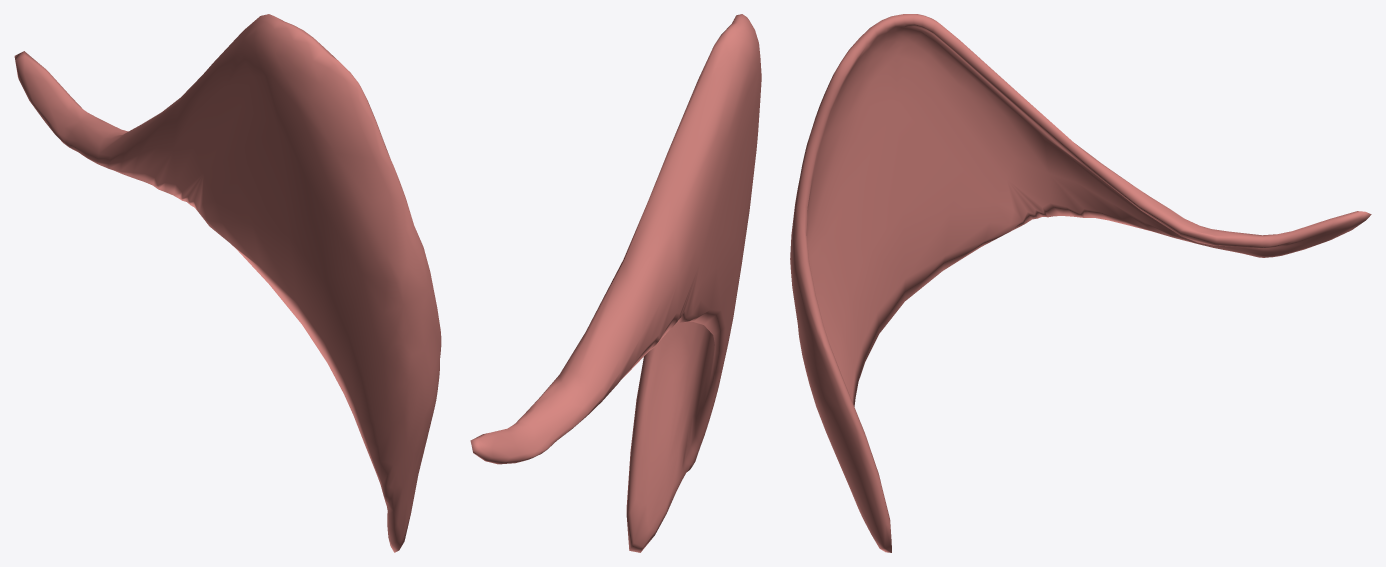
The picture shows the model from 3 angles, left to right: view 1: azimuth 30°, elevation 25°; view 2: azimuth 150°, elevation 25°; view 3: azimuth 270°, elevation 25°; orthographic projection. The views are drawn at different scales.
Parts seen in each view (by area): view 1: ZA_5f7b193f79f74b89; view 2: ZA_5f7b193f79f74b89; view 3: ZA_5f7b193f79f74b89.
Boxes of the visible parts, x1,y1,x2,y2 form: ZA_5f7b193f79f74b89: (14, 14, 441, 552); ZA_5f7b193f79f74b89: (470, 14, 761, 552); ZA_5f7b193f79f74b89: (790, 14, 1371, 552).
Size of the model in its own units: 0.00576 by 0.0205 by 0.0219.
